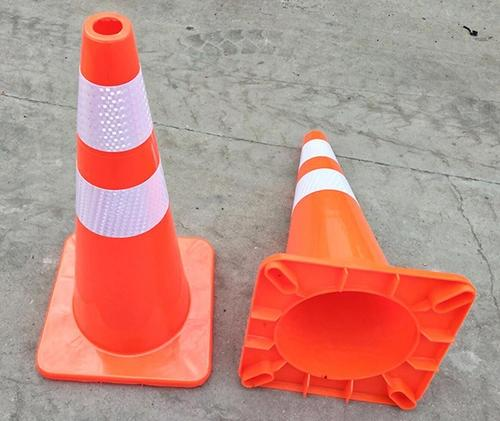cone_barrel: (49, 6, 204, 360), (262, 131, 394, 314)
